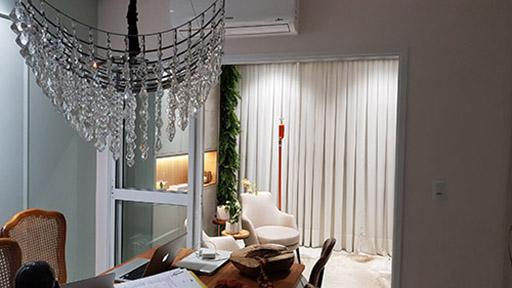Detector_Tensao_Contato: (277, 117, 285, 140)
Vara_Manobra: (277, 138, 282, 211)
